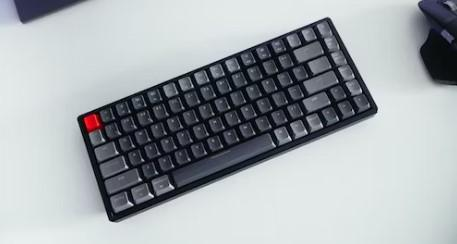Keyboard: (75, 18, 379, 222)
